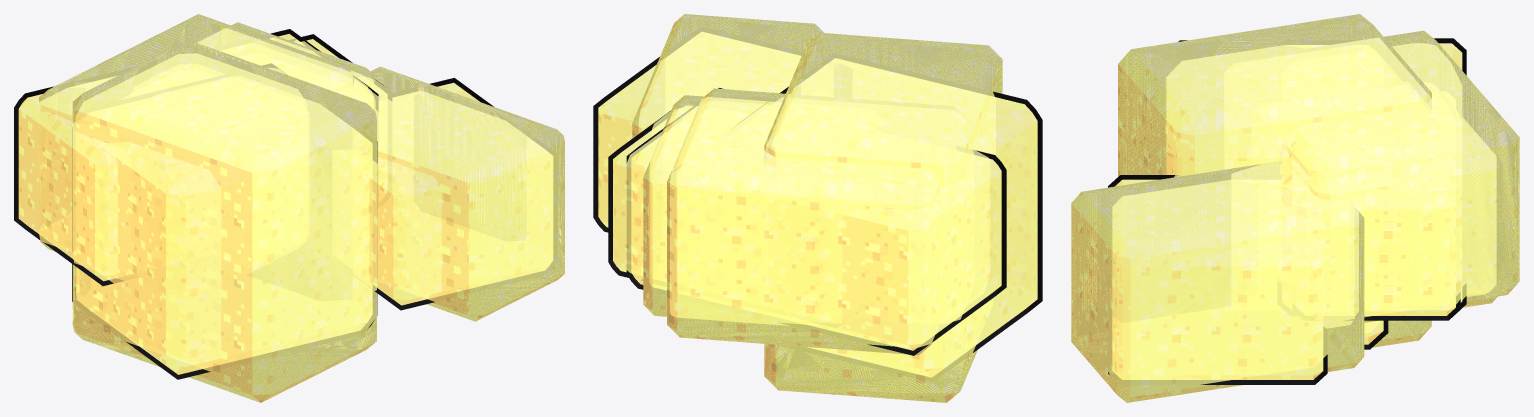
The model's file is env_prehistoric_amber_rock.glb.
3 views of the same model, side by side, from view 1: azimuth 30°, elevation 25°; view 2: azimuth 150°, elevation 25°; view 3: azimuth 270°, elevation 25° (orthographic). The views are drawn at different scales.
Parts seen in each view (by area): view 1: model; view 2: model; view 3: model.
Boxes of the visible parts, x1,y1,x2,y2 form: model: (14, 14, 564, 402); model: (593, 14, 1042, 402); model: (1071, 14, 1519, 402).
Bounding box in the file's own units: 1.69 × 1.01 × 1.59.
2 materials, 1 textured.
